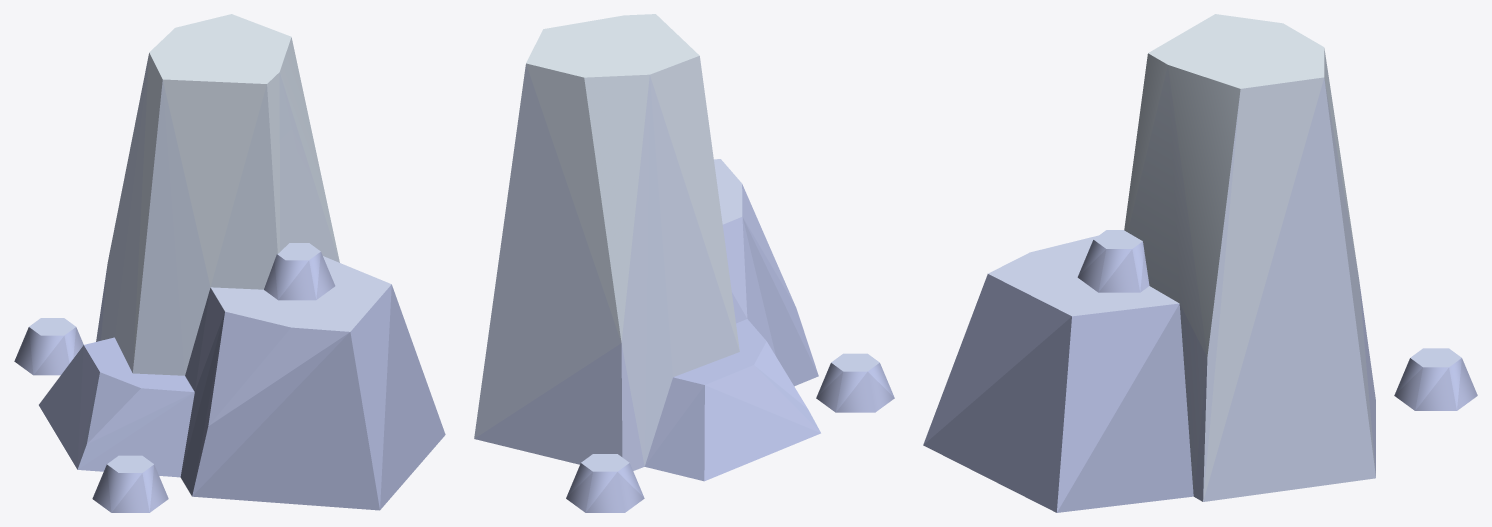
The model's file is kenney_town_rock_small.glb.
The picture shows the model from 3 angles, left to right: view 1: azimuth 30°, elevation 25°; view 2: azimuth 150°, elevation 25°; view 3: azimuth 270°, elevation 25°; orthographic projection. The views are drawn at different scales.
Parts seen in each view (by area): view 1: metal, cloth, stone; view 2: metal, cloth, stone; view 3: metal, cloth, stone.
Part boxes in pixels (box(x1,y1,x2,y2)): metal: box(14, 54, 391, 512); cloth: box(132, 14, 339, 374); stone: box(180, 284, 445, 510); metal: box(474, 64, 894, 512); cloth: box(526, 14, 739, 350); stone: box(742, 217, 818, 386); metal: box(923, 78, 1477, 512); cloth: box(1124, 14, 1357, 501); stone: box(923, 304, 1193, 512).
Size of the model in its own units: 0.9983 by 1.02 by 1.33.
